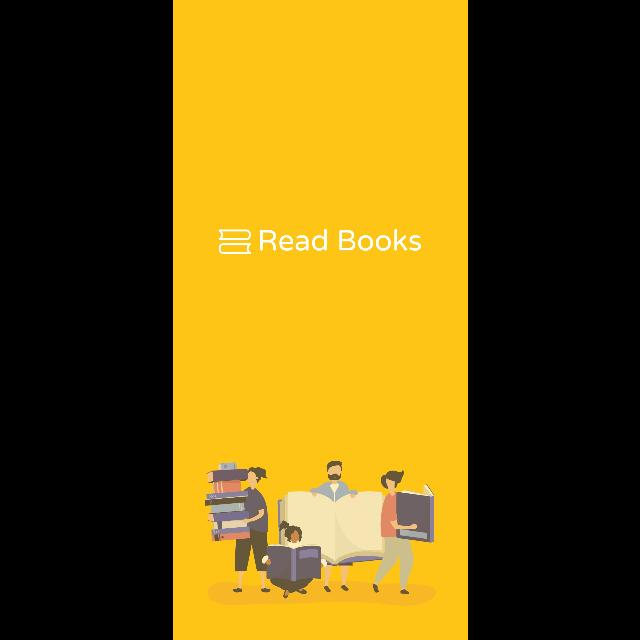image: (204, 460, 436, 606), (218, 230, 250, 254)
text: (259, 229, 421, 251)
